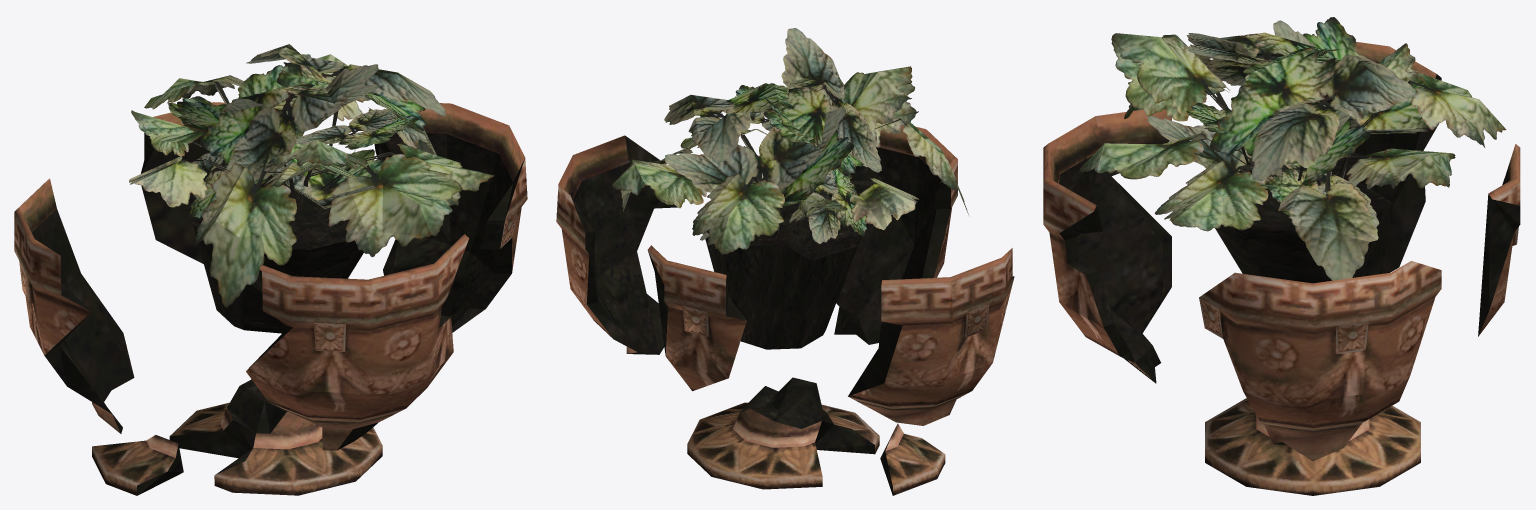
File: pot_plant_small02_broken.dae
3 renders of one model, left to right at view 1: azimuth 30°, elevation 25°; view 2: azimuth 150°, elevation 25°; view 3: azimuth 270°, elevation 25°, orthographic. The views are drawn at different scales.
Parts seen in each view (by area): view 1: Object06, Cylinder01, Object07, Object03, Object01, Object02, Object04; view 2: Object06, Object03, Object07, Object01, Cylinder01, Object04, Object02; view 3: Object06, Object07, Cylinder01, Object01, Object03, Object04.
Boxes of the visible parts, left/top/right/bottom form: Object06: left=129, top=44, right=495, bottom=333; Cylinder01: left=246, top=234, right=469, bottom=450; Object07: left=374, top=103, right=527, bottom=332; Object03: left=14, top=178, right=134, bottom=433; Object01: left=169, top=379, right=382, bottom=495; Object02: left=92, top=435, right=183, bottom=495; Object04: left=141, top=102, right=230, bottom=263; Object06: left=612, top=28, right=968, bottom=349; Object03: left=848, top=248, right=1014, bottom=425; Object07: left=556, top=135, right=677, bottom=354; Object01: left=687, top=377, right=879, bottom=489; Cylinder01: left=834, top=125, right=957, bottom=344; Object04: left=647, top=245, right=746, bottom=391; Object02: left=880, top=423, right=945, bottom=495; Object06: left=1079, top=17, right=1506, bottom=283; Object07: left=1199, top=261, right=1441, bottom=461; Cylinder01: left=1043, top=109, right=1171, bottom=383; Object01: left=1205, top=398, right=1420, bottom=495; Object03: left=1316, top=36, right=1441, bottom=273; Object04: left=1478, top=144, right=1520, bottom=336.
Size of the model in its own units: 0.7593 by 0.6177 by 0.6335.
